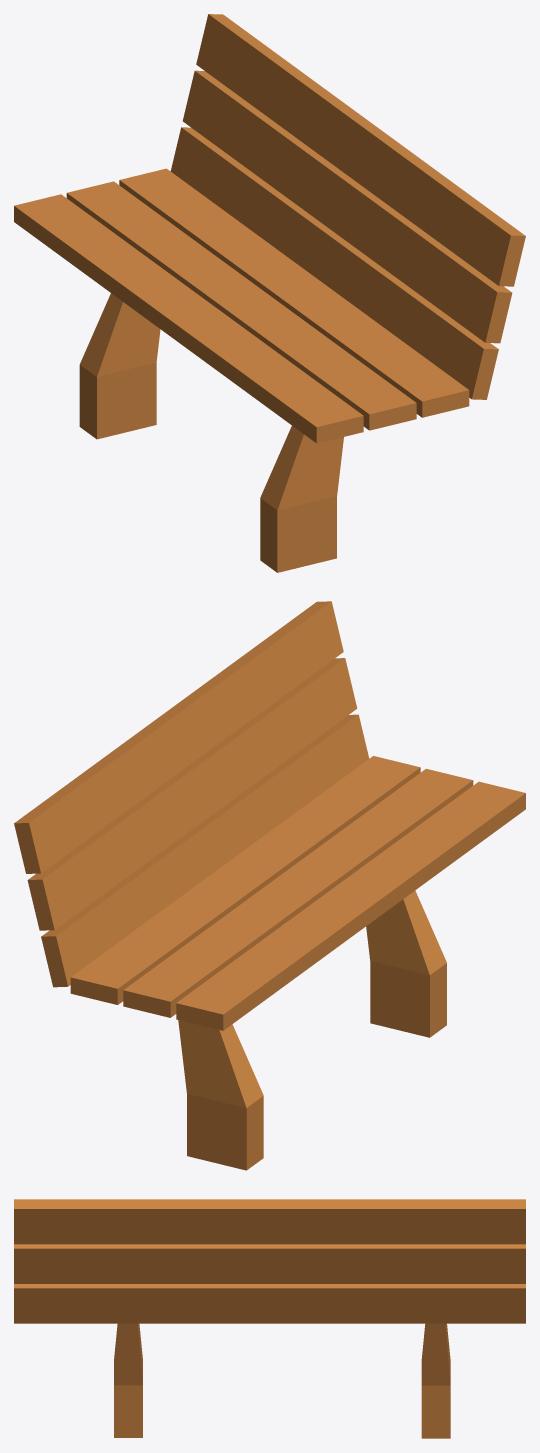
File: bench.fbx
3 views of the same model, one above another, from view 1: azimuth 30°, elevation 25°; view 2: azimuth 150°, elevation 25°; view 3: azimuth 270°, elevation 25° (orthographic). The views are drawn at different scales.
Visible parts, largest first — view 1: Chair2; view 2: Chair2; view 3: Chair2.
Boxes of the visible parts, x1,y1,x2,y2 form: Chair2: (14,14,525,572); Chair2: (14,601,525,1170); Chair2: (14,1199,525,1438).
Size of the model in its own units: 46.05 by 71.09 by 115.
